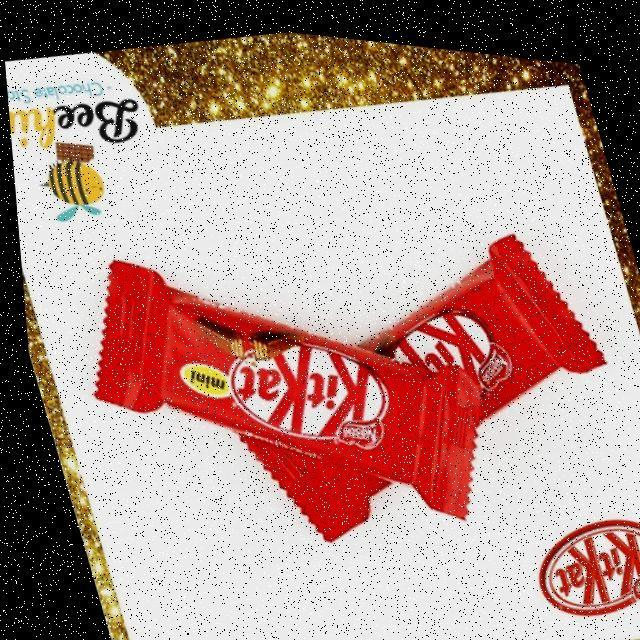kitkat_chocolate: (116, 260, 472, 500), (336, 260, 542, 533)
